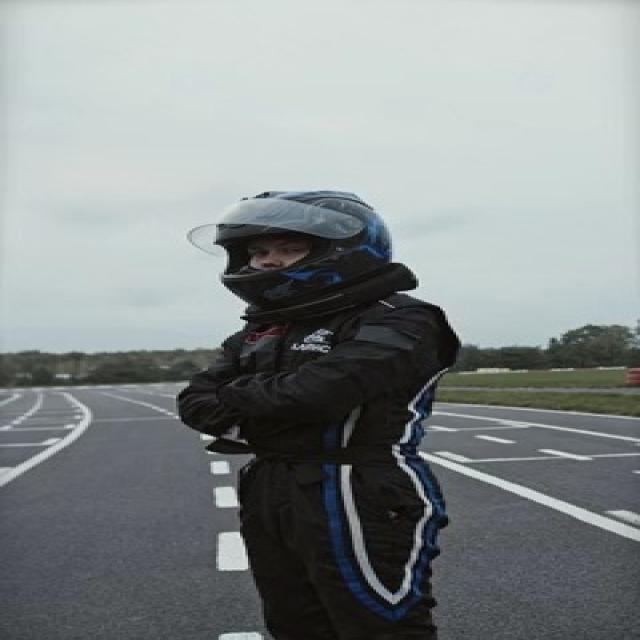Helmet_Wearer: (184, 181, 436, 320)
Jacket_Wearer: (175, 292, 488, 456)
Person: (156, 187, 484, 640)
